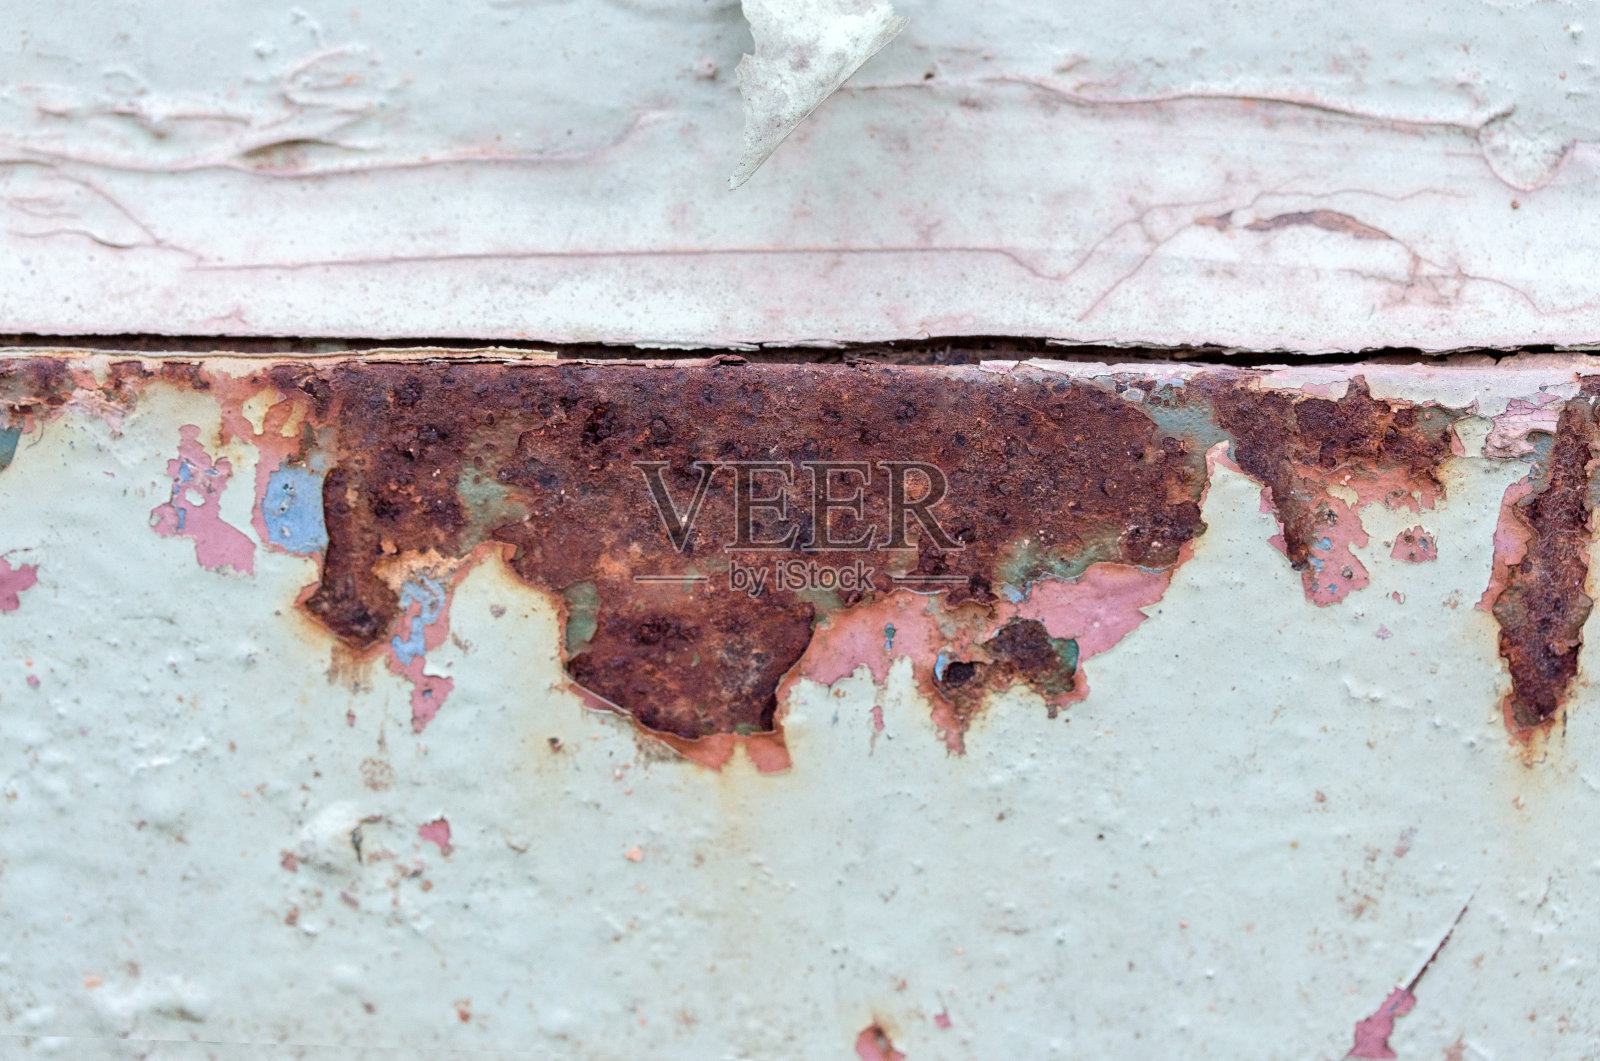Corrosion: (266, 368, 1212, 747), (1212, 368, 1474, 574), (1492, 369, 1600, 729), (1, 356, 212, 433)
Crack: (1, 332, 1600, 368)
